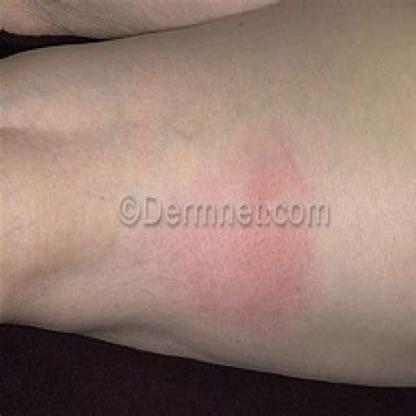Wasp: (216, 164, 306, 296)
